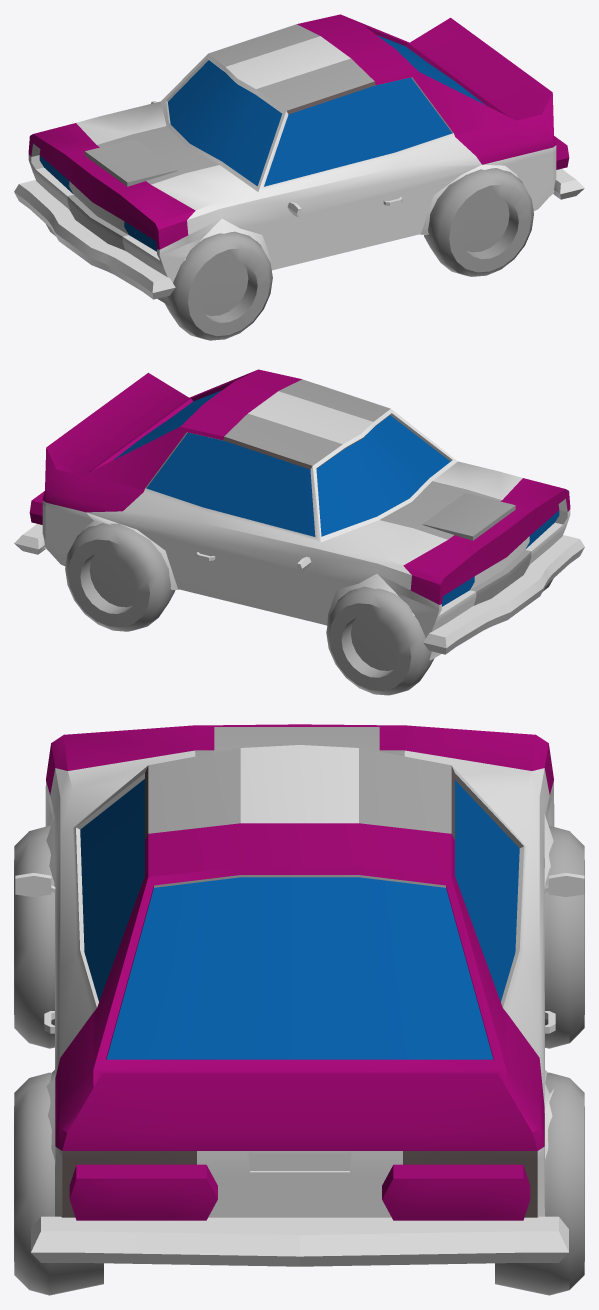
The model's file is car_new.fbx.
The picture shows the model from 3 angles, top to bottom: view 1: azimuth 30°, elevation 25°; view 2: azimuth 150°, elevation 25°; view 3: azimuth 270°, elevation 25°; orthographic projection. The views are drawn at different scales.
Visible parts, largest first — view 1: pCylinder5; view 2: pCylinder5; view 3: pCylinder5.
Part boxes in pixels (x1,y1,x2,y2): pCylinder5: [14, 14, 584, 340]; pCylinder5: [14, 369, 584, 695]; pCylinder5: [14, 724, 584, 1295].
Size of the model in its own units: 346 by 147 by 197.
